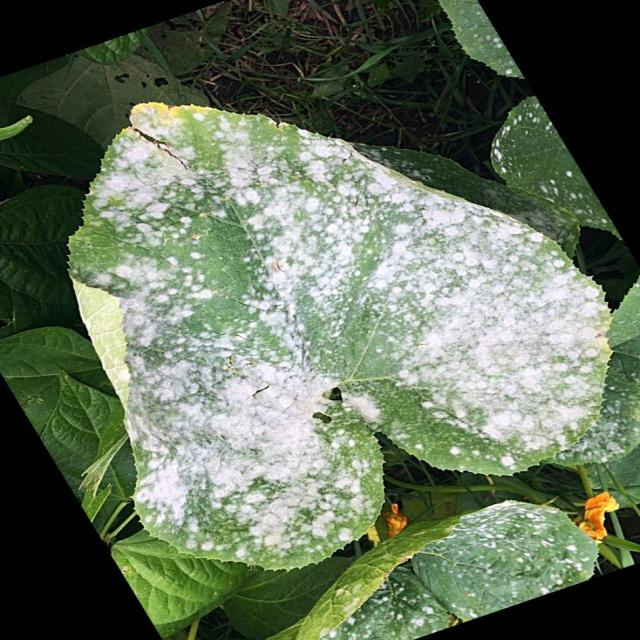Powdery Mildew: (66, 100, 616, 571)
